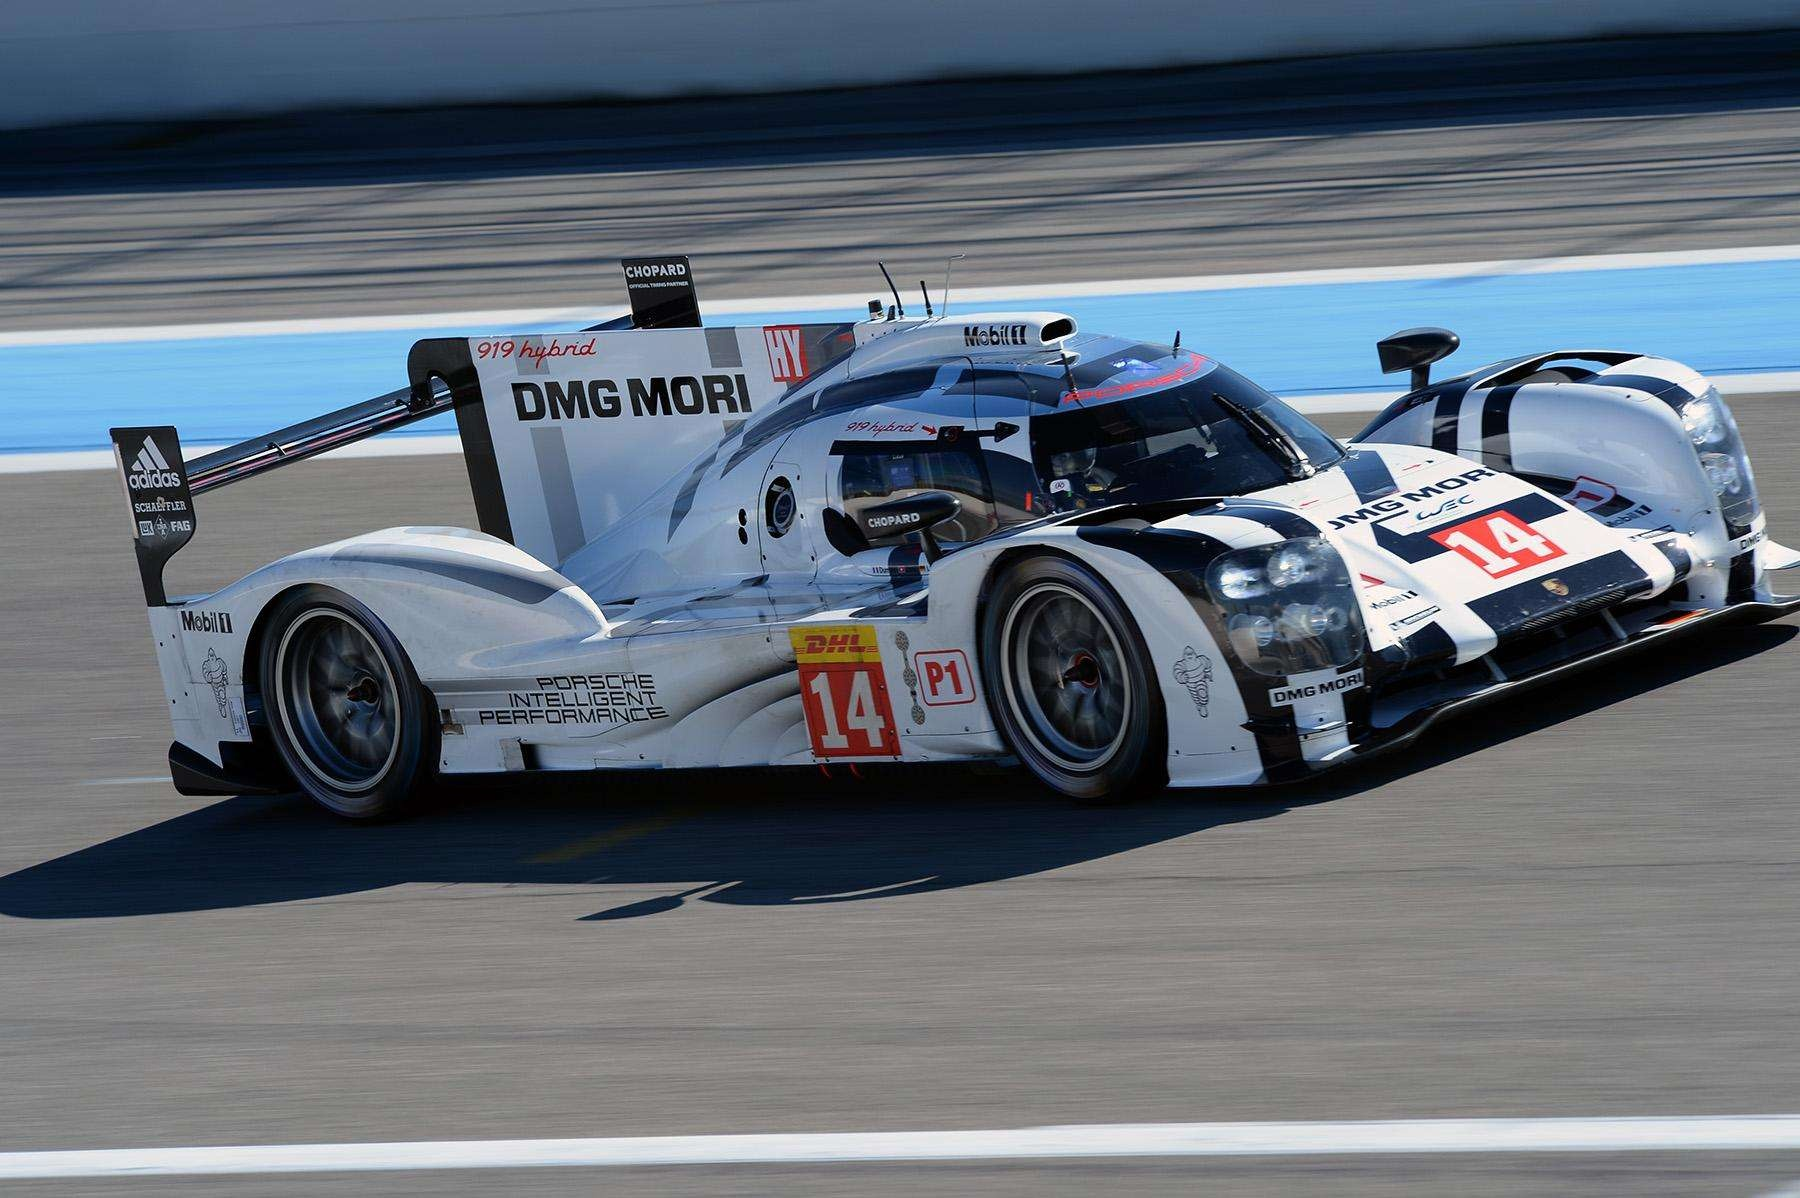racing car: (94, 249, 1788, 817)
